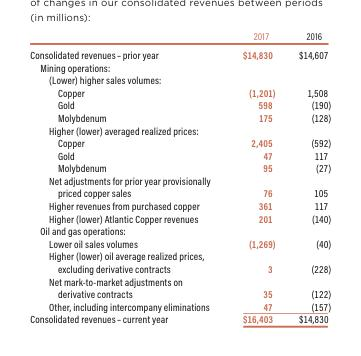table: (29, 29, 330, 324)
table column: (29, 29, 225, 324), (225, 29, 286, 324), (286, 29, 330, 324)
table column header: (29, 29, 330, 44)
table projected row header: (29, 60, 330, 73), (29, 123, 330, 136), (29, 73, 330, 85), (29, 224, 330, 236)
table row: (29, 173, 330, 198), (29, 249, 330, 274), (29, 274, 330, 299), (29, 44, 330, 60), (29, 29, 330, 44), (29, 60, 330, 73), (29, 85, 330, 98), (29, 110, 330, 123), (29, 123, 330, 136), (29, 148, 330, 161), (29, 198, 330, 211), (29, 211, 330, 224), (29, 236, 330, 249), (29, 299, 330, 312), (29, 73, 330, 85), (29, 98, 330, 110), (29, 136, 330, 148), (29, 161, 330, 173), (29, 224, 330, 236), (29, 312, 330, 324)
